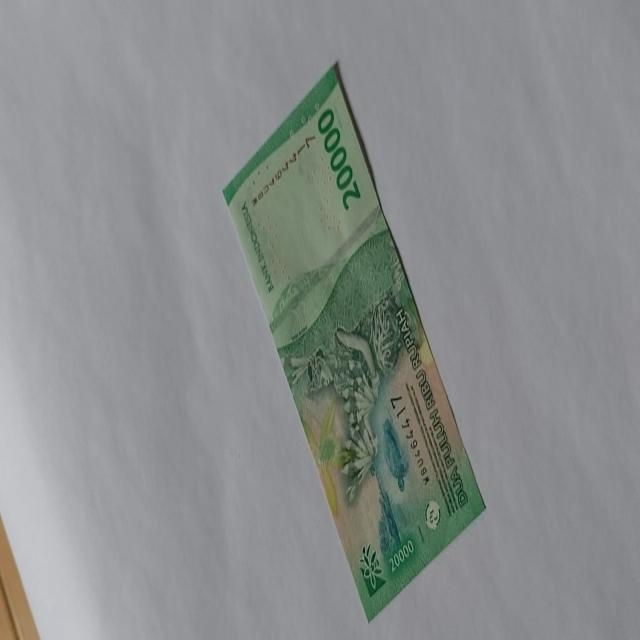dua puluh ribu rupiah: (221, 60, 487, 622)
